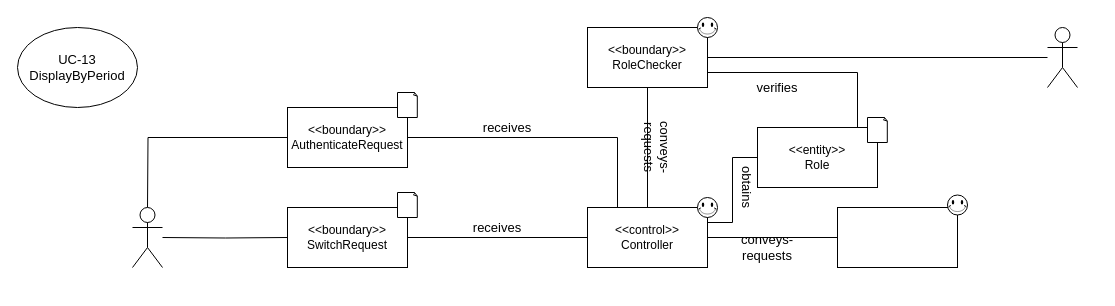
Image size: 1115x306. Some labels were removed from this diagram. The centre of each missing label's shape, as x and y in pixels:
"<<entity>> SwitchOperator" goes at pixel 897 237.
"Authenticator" goes at pixel 1062 57.
"Manager" goes at pixel 147 237.
